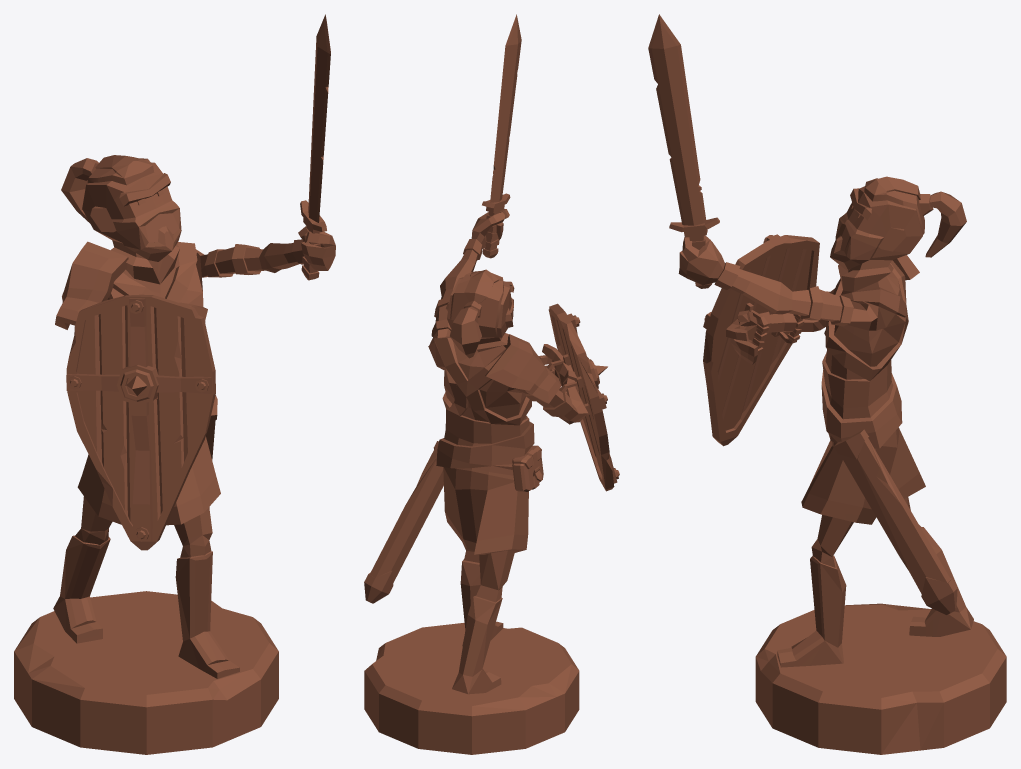
File: SM_Prop_Statue_01.gltf
The picture shows the model from 3 angles, left to right: view 1: azimuth 30°, elevation 25°; view 2: azimuth 150°, elevation 25°; view 3: azimuth 270°, elevation 25°; orthographic projection. The views are drawn at different scales.
Parts seen in each view (by area): view 1: SM_Prop_Statue_01; view 2: SM_Prop_Statue_01; view 3: SM_Prop_Statue_01.
Part boxes in pixels (bbox=[...]): SM_Prop_Statue_01: bbox=[14, 14, 335, 754]; SM_Prop_Statue_01: bbox=[364, 14, 619, 754]; SM_Prop_Statue_01: bbox=[648, 14, 1006, 754].
Size of the model in its own units: 1.26 by 3.82 by 1.73.
1 material, 1 textured.
